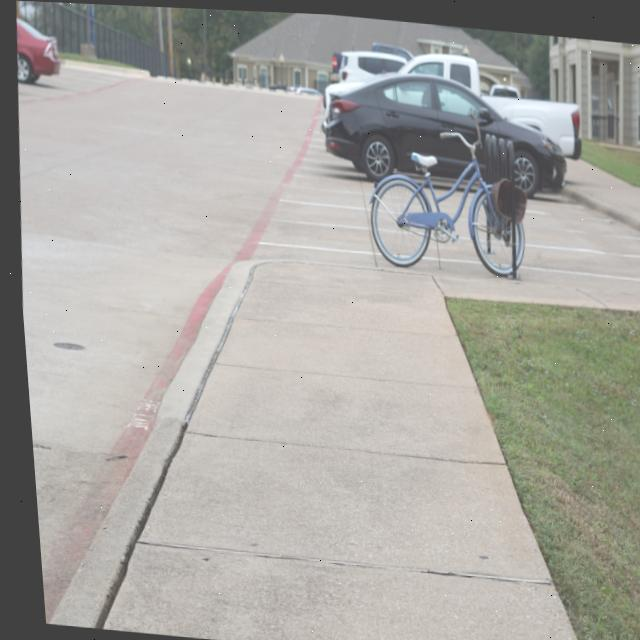Automobile: (320, 45, 579, 193), (16, 18, 61, 83)
Obstacle: (367, 115, 524, 275)
Road: (17, 60, 370, 624), (517, 189, 640, 275), (436, 203, 480, 268)
Sidewalk: (39, 260, 640, 640), (567, 156, 640, 217)
